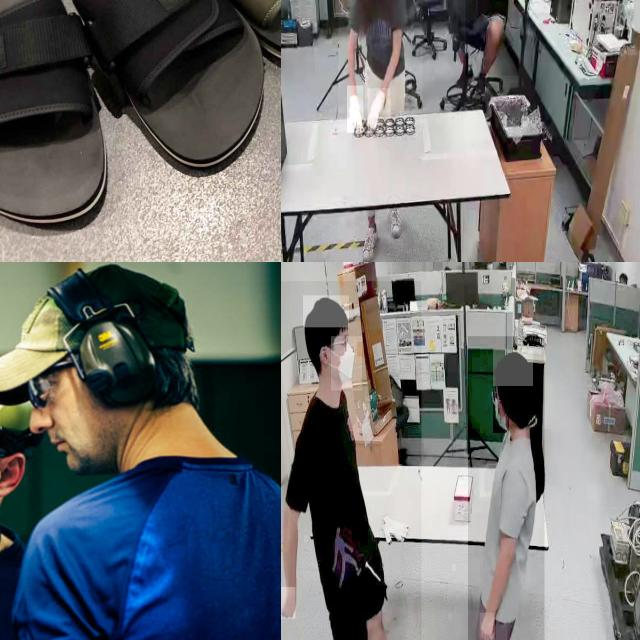Ear-protection: (29, 270, 197, 452)
Sandals: (0, 0, 281, 234)
face_mask: (331, 336, 362, 391), (493, 391, 509, 433)
hand_glove: (367, 88, 391, 136), (347, 85, 364, 134)
hand_noglove: (281, 587, 296, 620), (479, 612, 495, 640)
head_nohelmet: (493, 349, 533, 387), (303, 296, 349, 328)
person: (281, 281, 422, 640), (468, 336, 545, 640), (338, 0, 423, 132), (465, 0, 518, 76)
shoes: (360, 222, 380, 262)
